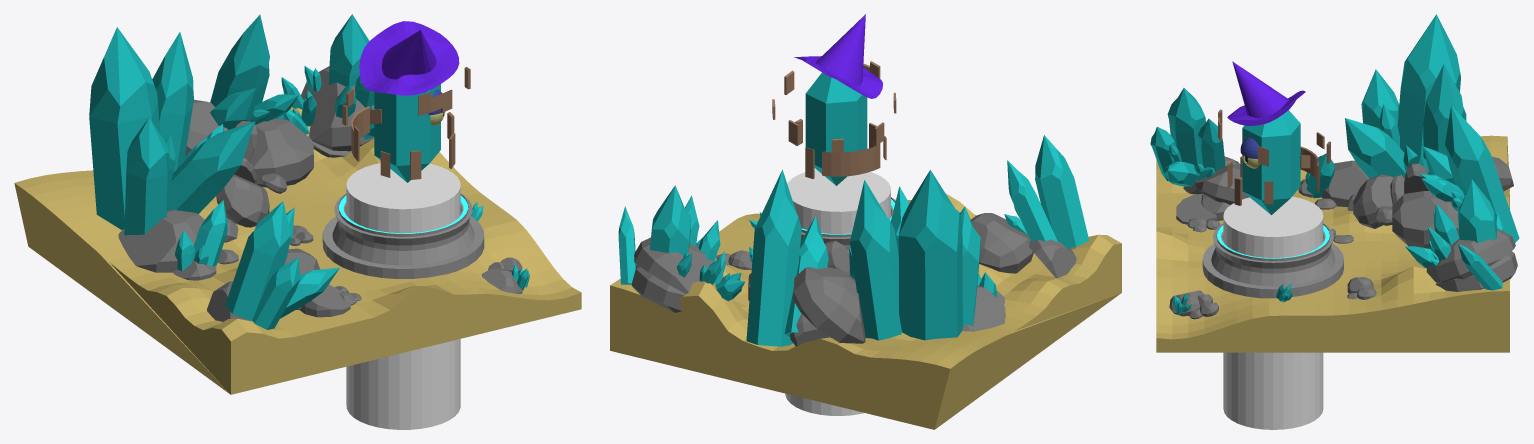
The model's file is decoratsiaAAAAEnglisSLOSHNA!!!.fbx.
3 renders of one model, left to right at view 1: azimuth 30°, elevation 25°; view 2: azimuth 150°, elevation 25°; view 3: azimuth 270°, elevation 25°, orthographic. The views are drawn at different scales.
Visible parts, largest first — view 1: Plane, Circle.002, Cylinder, Circle, Cone, Cylinder.003, Cylinder.002, Cylinder.041, Cylinder.007, Cylinder.001, Roundcube, Cylinder.017 (+17 smaller); view 2: Plane, Cylinder, Cylinder.017, Cylinder.001, Circle.002, Cylinder.041, Roundcube.009, Cylinder.007, Cone, Roundcube.002, Circle.003, Roundcube.003 (+13 smaller); view 3: Plane, Circle.002, Circle, Cylinder, Cylinder.041, Cylinder.017, Cylinder.003, Roundcube, Cone, Cylinder.001, Roundcube.003, Cylinder.007 (+25 smaller).
Part boxes in pixels (box(x1,y1,x2,y2)): Plane: box(14, 100, 581, 394); Circle.002: box(346, 163, 460, 429); Cylinder: box(89, 27, 160, 229); Circle: box(322, 193, 484, 278); Cone: box(359, 21, 459, 95); Cylinder.003: box(167, 121, 255, 213); Cylinder.002: box(124, 117, 169, 235); Cylinder.041: box(374, 84, 440, 182); Cylinder.007: box(225, 201, 290, 321); Cylinder.001: box(152, 32, 193, 172); Roundcube: box(249, 118, 313, 187); Cylinder.017: box(210, 14, 269, 106); Plane: box(610, 193, 1121, 429); Cylinder: box(898, 170, 962, 340); Cylinder.017: box(746, 169, 801, 346); Cylinder.001: box(850, 180, 901, 340); Circle.002: box(785, 169, 890, 415); Cylinder.041: box(805, 72, 867, 185); Roundcube.009: box(793, 267, 865, 343); Cylinder.007: box(1035, 135, 1089, 248); Cone: box(794, 14, 882, 98); Roundcube.002: box(971, 213, 1033, 273); Circle.003: box(795, 119, 886, 178); Roundcube.003: box(634, 237, 723, 294); Plane: box(1156, 135, 1509, 352); Circle.002: box(1223, 196, 1323, 429); Circle: box(1202, 223, 1343, 298); Cylinder: box(1397, 14, 1460, 156); Cylinder.041: box(1242, 110, 1300, 214); Cylinder.017: box(1445, 105, 1519, 242); Cylinder.003: box(1345, 118, 1405, 178); Roundcube: box(1392, 191, 1459, 248); Cone: box(1227, 61, 1305, 125); Cylinder.001: box(1423, 64, 1466, 174); Roundcube.003: box(1426, 229, 1515, 282); Cylinder.007: box(1167, 88, 1205, 165).
Bounding box in the file's own units: 867 × 860 × 835.
